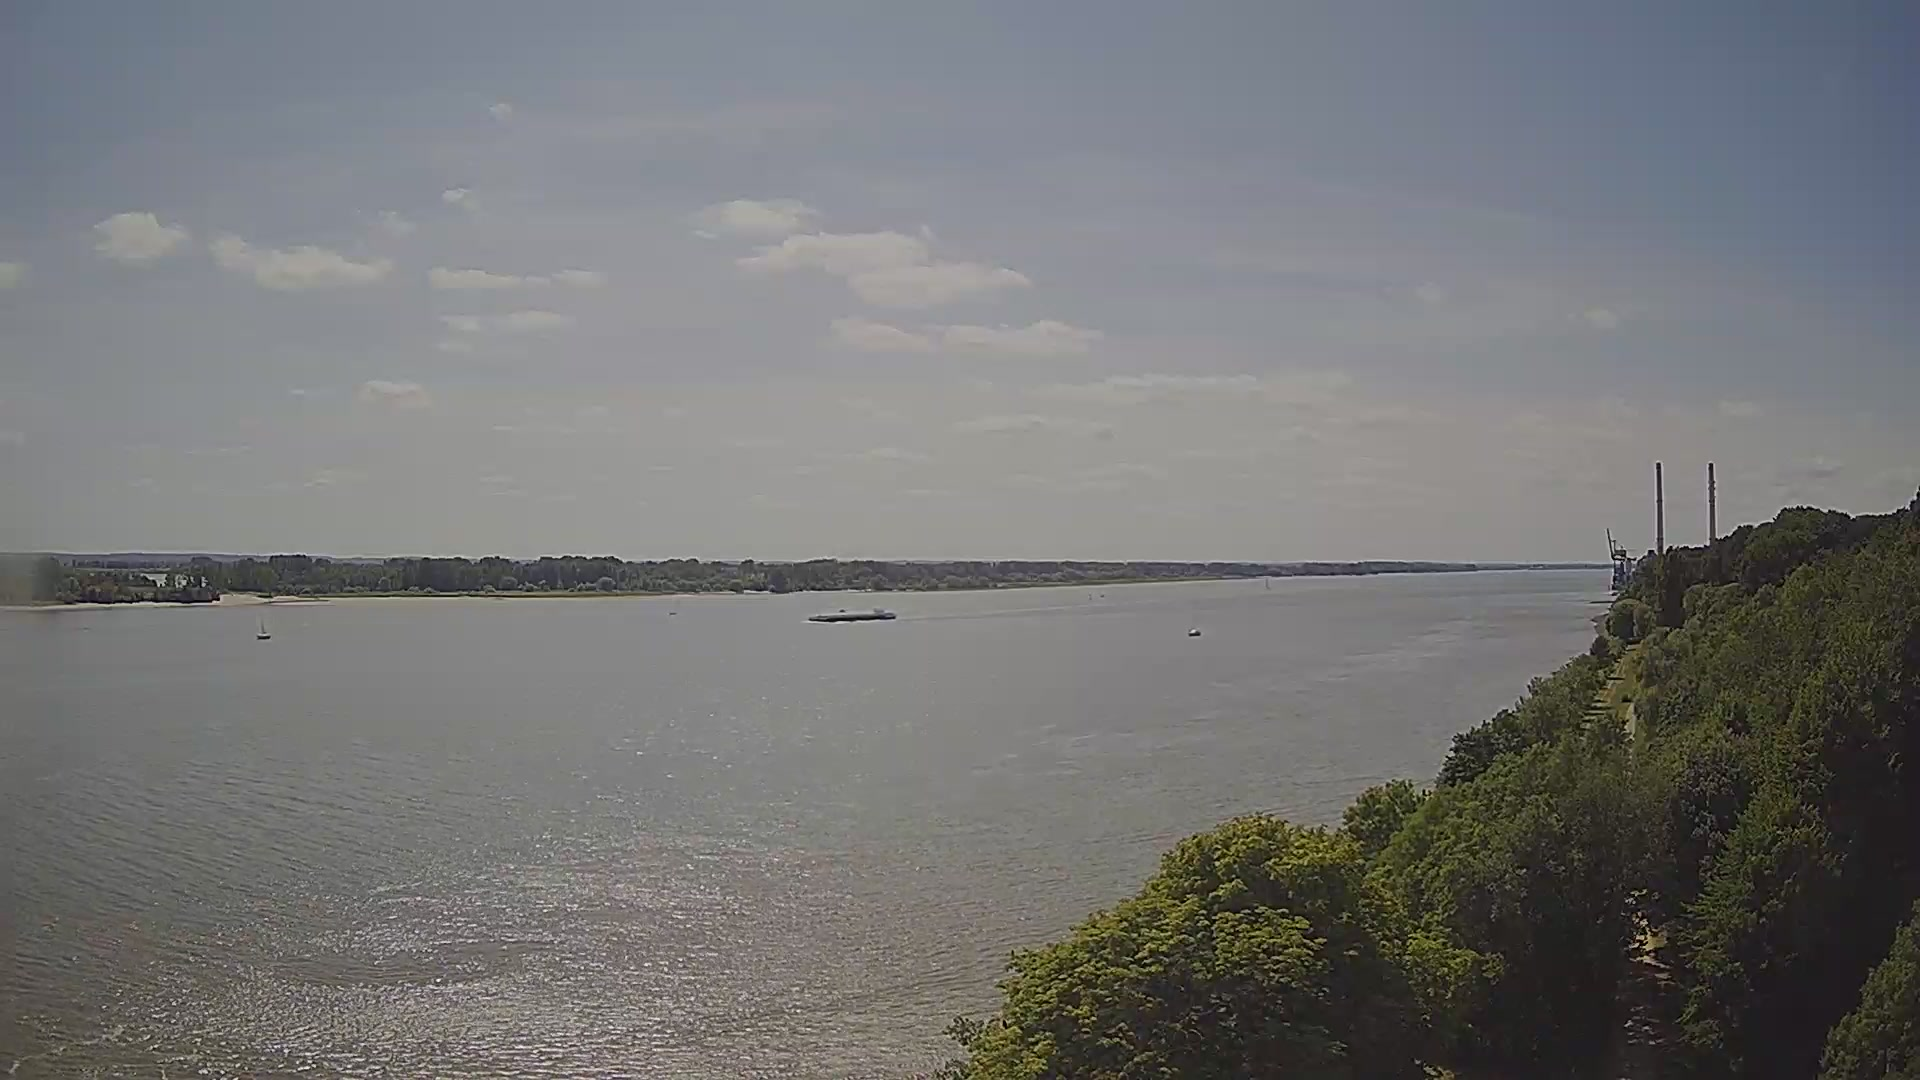sea: (807, 607, 897, 622), (256, 616, 272, 638), (1188, 626, 1201, 636), (1265, 576, 1271, 589)
